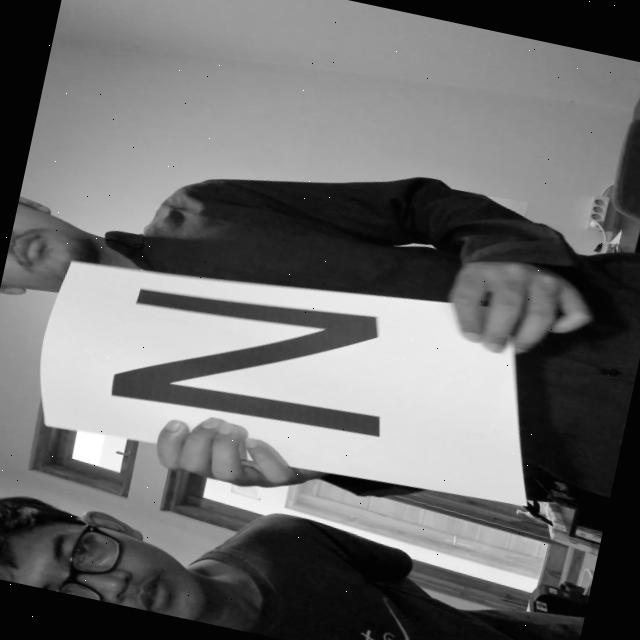n: (79, 249, 428, 469)
